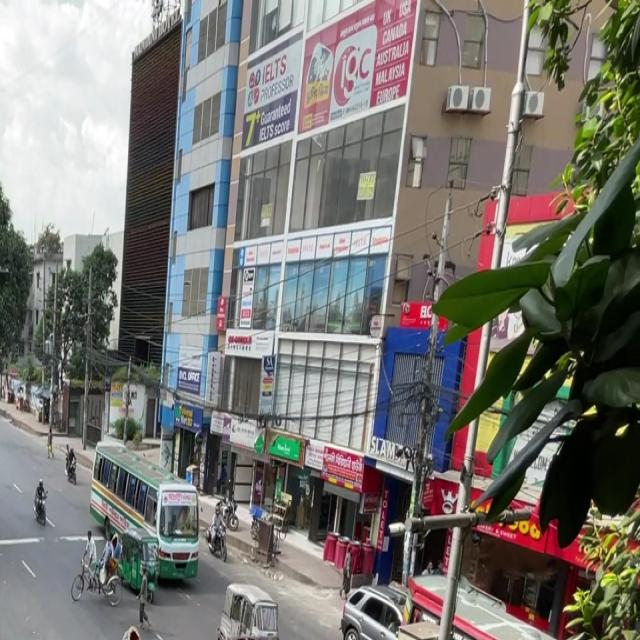bus: (86, 434, 202, 590)
car: (334, 575, 441, 640), (202, 637, 372, 640)
motorbike: (205, 508, 229, 561), (31, 476, 53, 530), (63, 447, 81, 487)
rickshaw: (215, 572, 286, 640), (118, 517, 164, 602)
